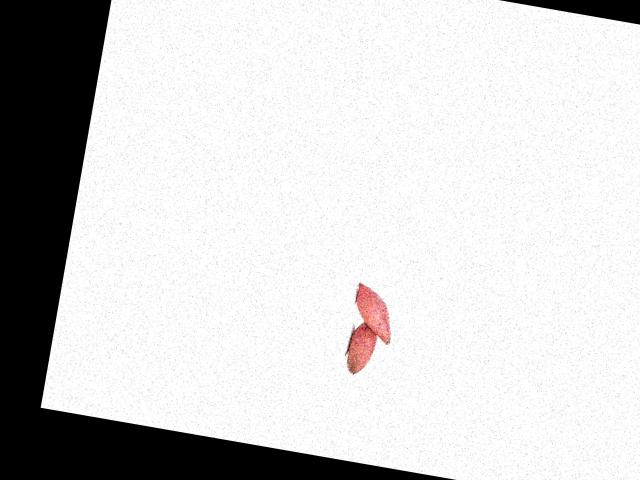sweet_potato: (343, 315, 383, 379)
